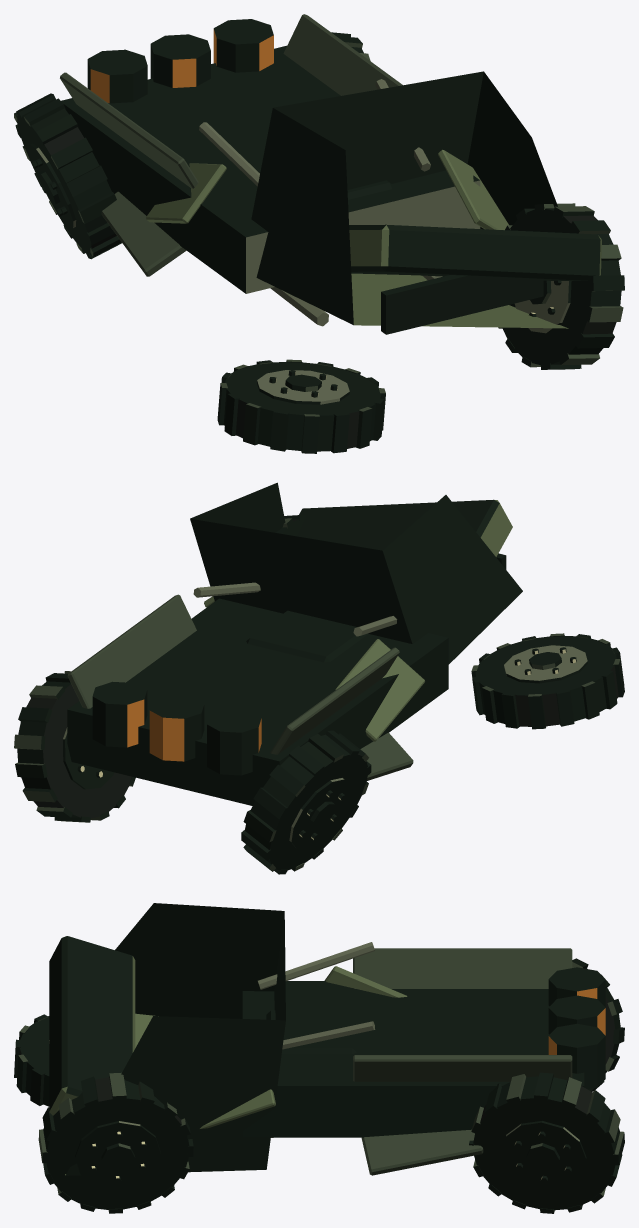
Rendered from wreck_minelayer.obj.
3 views of the same model, one above another, from view 1: azimuth 30°, elevation 25°; view 2: azimuth 150°, elevation 25°; view 3: azimuth 270°, elevation 25° (orthographic). The views are drawn at different scales.
Visible parts, largest first — view 1: Body.013; view 2: Body.013; view 3: Body.013.
Boxes of the visible parts, box(x1,y1,x2,y2) form: Body.013: box(14, 14, 624, 453); Body.013: box(14, 482, 624, 874); Body.013: box(14, 903, 624, 1213).
Size of the model in its own units: 4.37 by 2.69 by 6.61.
Materials: 1 (1 with a texture image).
